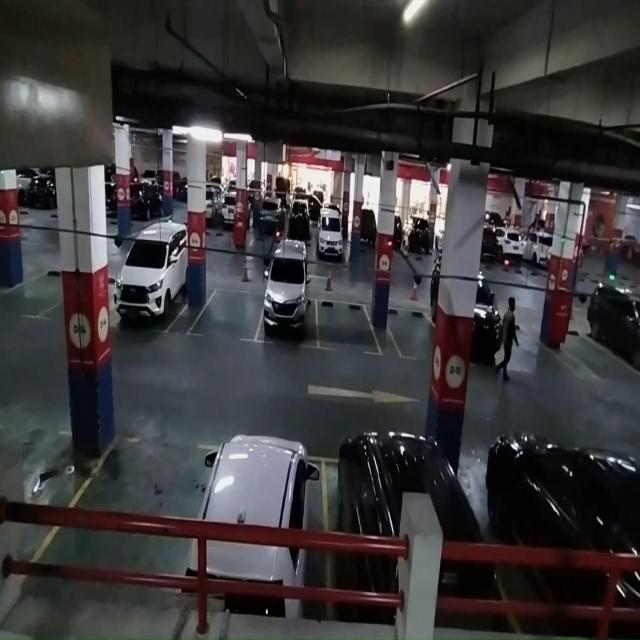empty: (61, 434, 201, 606), (189, 287, 265, 342), (316, 297, 382, 356), (389, 306, 436, 362)
occupied: (322, 444, 500, 626), (195, 442, 328, 620), (114, 232, 188, 333), (257, 252, 318, 348)
